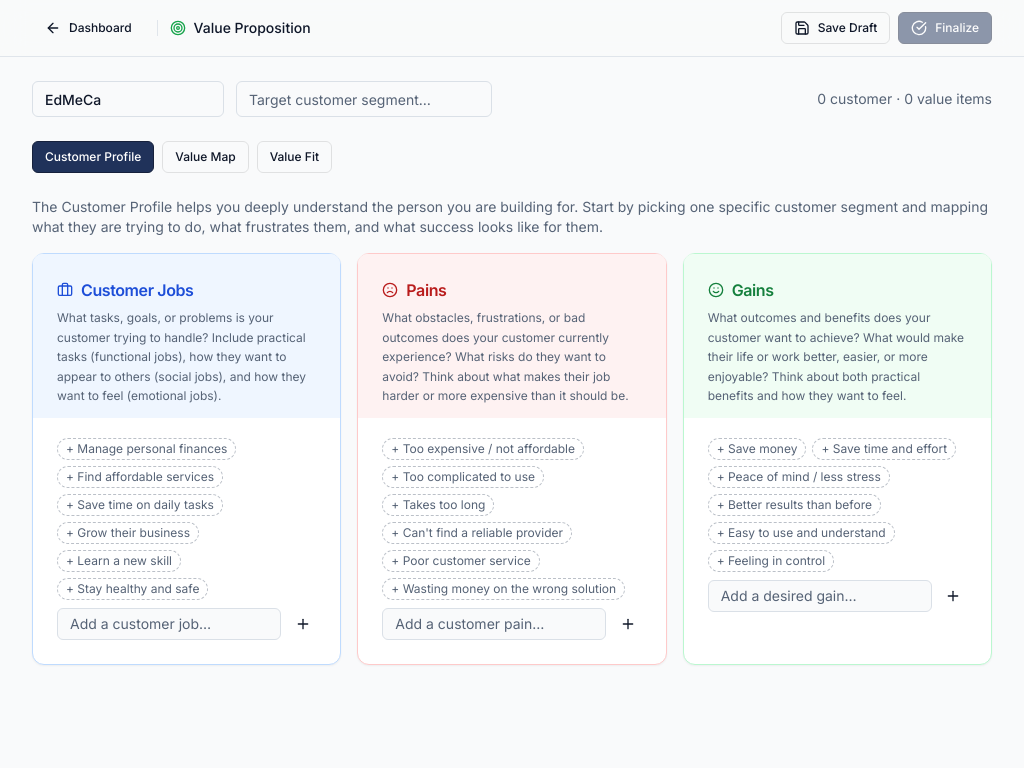
Test case: ValuePropTool › switching to Fit view shows the Value Fit analysis section
The image size is (1024, 768).
Click the button with test id "button-tab-fit".
click(294, 157)  # box [257,141,332,173]
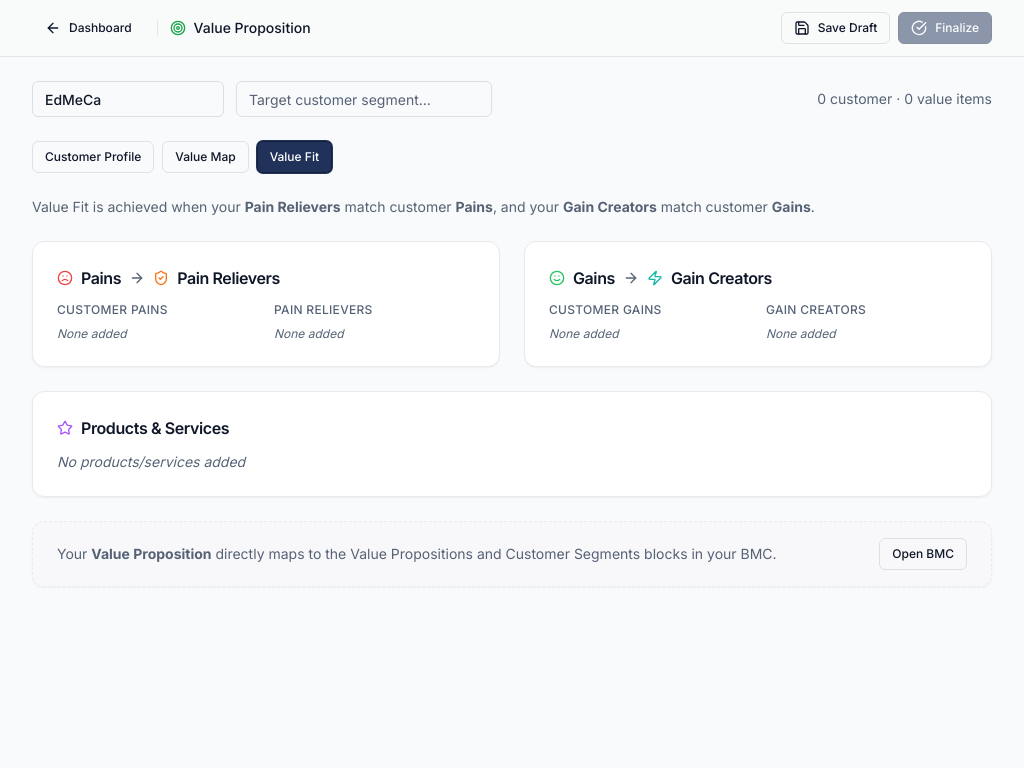
Now the text "Value Fit is achieved" is shown, box [32,198,245,215]
